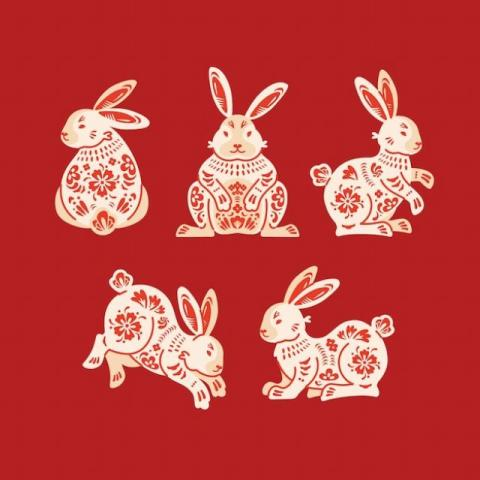small_animal: (173, 64, 301, 240), (308, 67, 436, 239), (80, 268, 228, 412), (257, 264, 396, 404), (52, 77, 152, 237)
